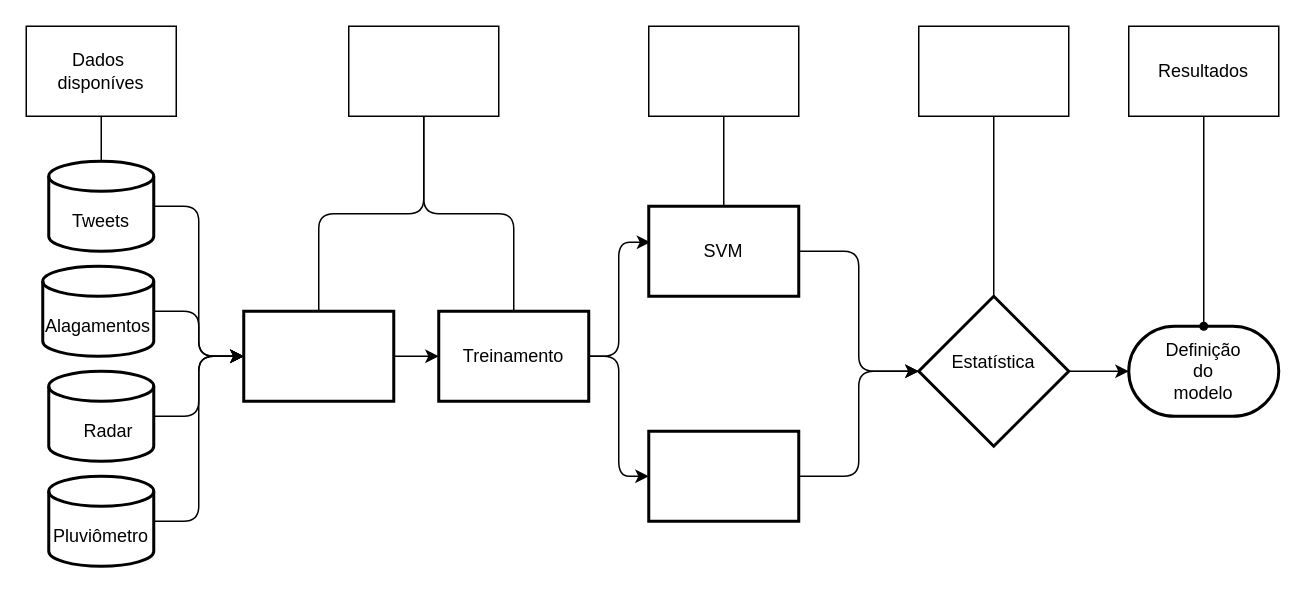
The diagram is 1307 pixels wide and 594 high, and some of its shapes have lost their labels. The centre of each missing label's shape, as x and y in pixels:
"Classificação com os modelos propostos" goes at point (723, 70).
"Determinação Kappa e matriz de confusão" goes at point (993, 70).
"Floresta Aleatória" goes at point (723, 475).
"Processamento" goes at point (318, 355).
"Processamento geral e treinamento" goes at point (423, 70).
